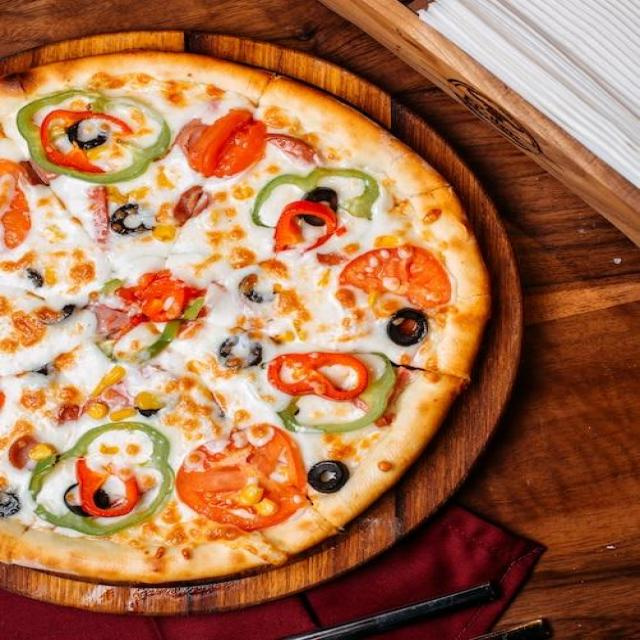olive: (64, 483, 110, 518), (387, 307, 428, 346), (218, 336, 262, 368), (303, 186, 338, 226), (306, 461, 348, 494), (66, 119, 107, 151), (109, 203, 148, 236), (0, 492, 21, 517)
pizza: (0, 47, 492, 584)
